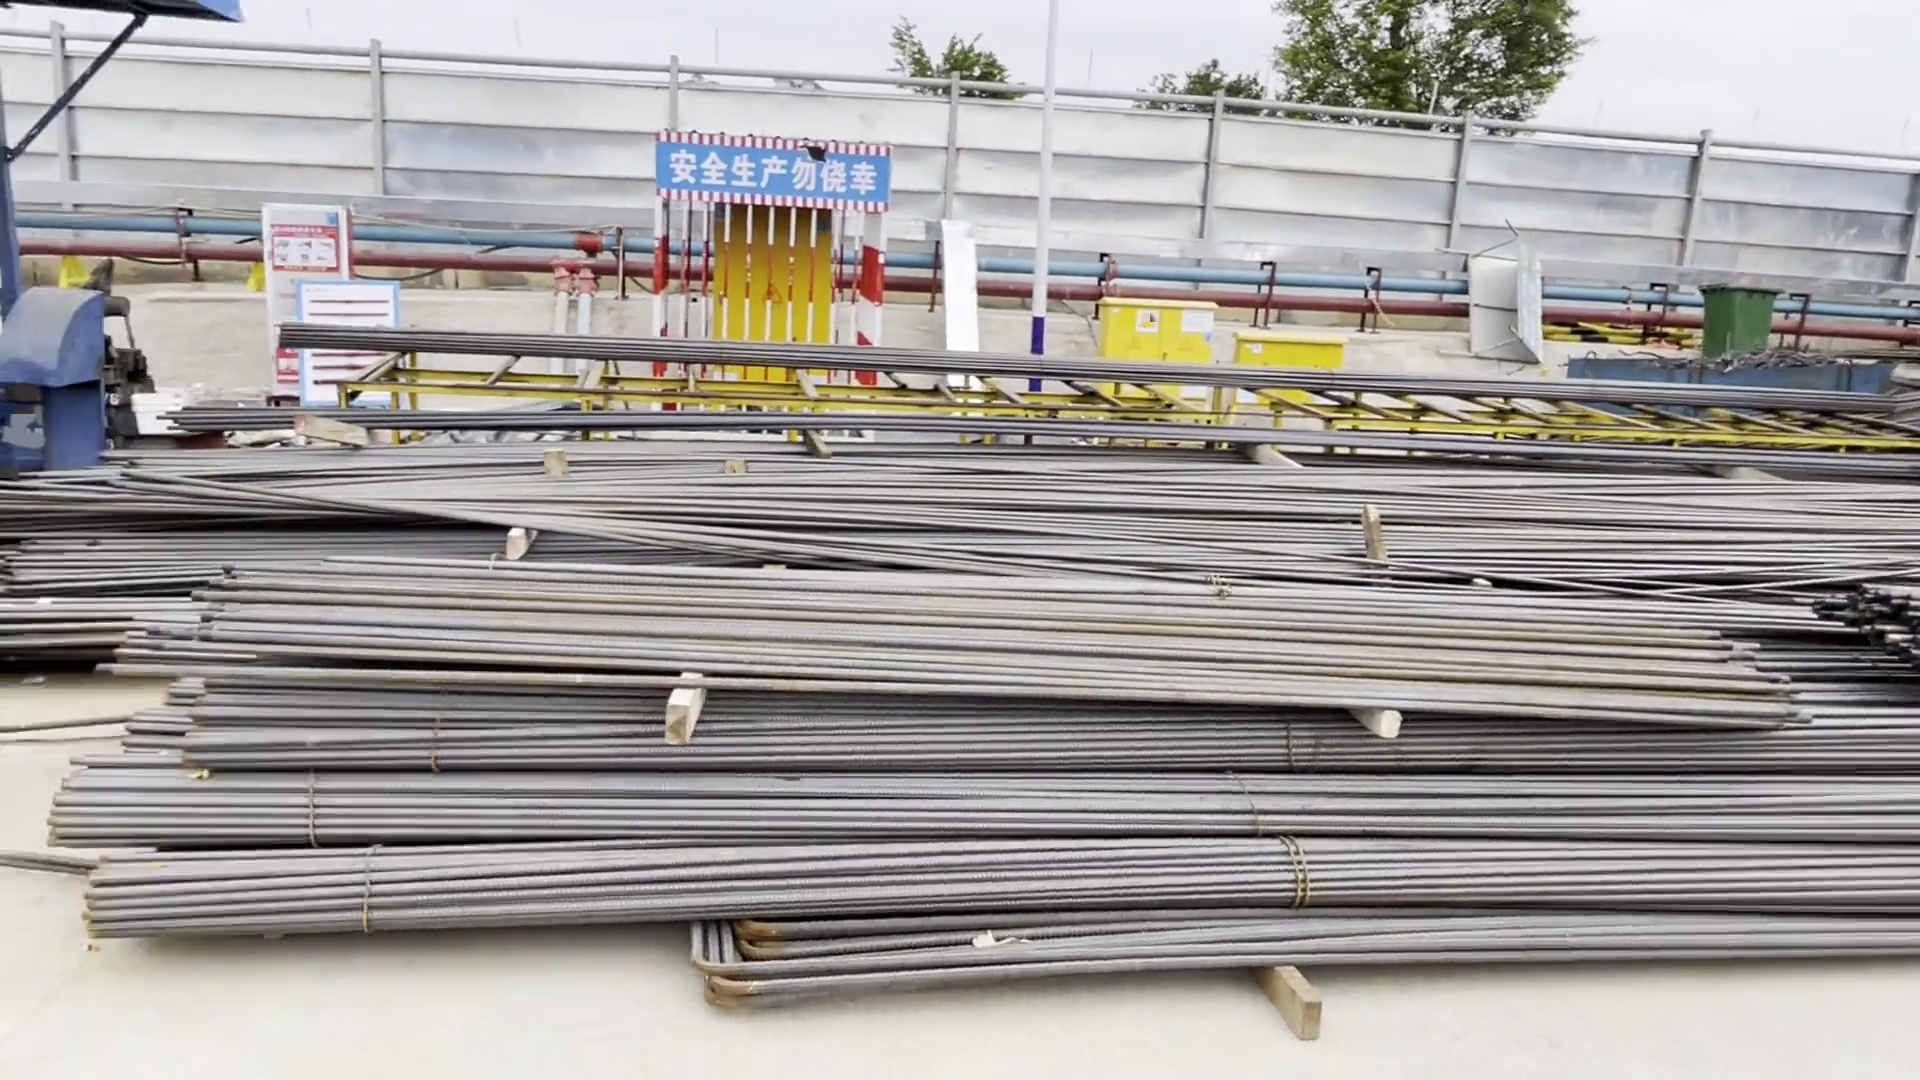ebox: (705, 200, 835, 392), (1097, 291, 1224, 382), (1237, 332, 1350, 396)
fence: (927, 100, 1695, 299)
hopper: (1565, 351, 1902, 415)
rebar: (1, 479, 1920, 1005)
slogan: (666, 146, 884, 196)
